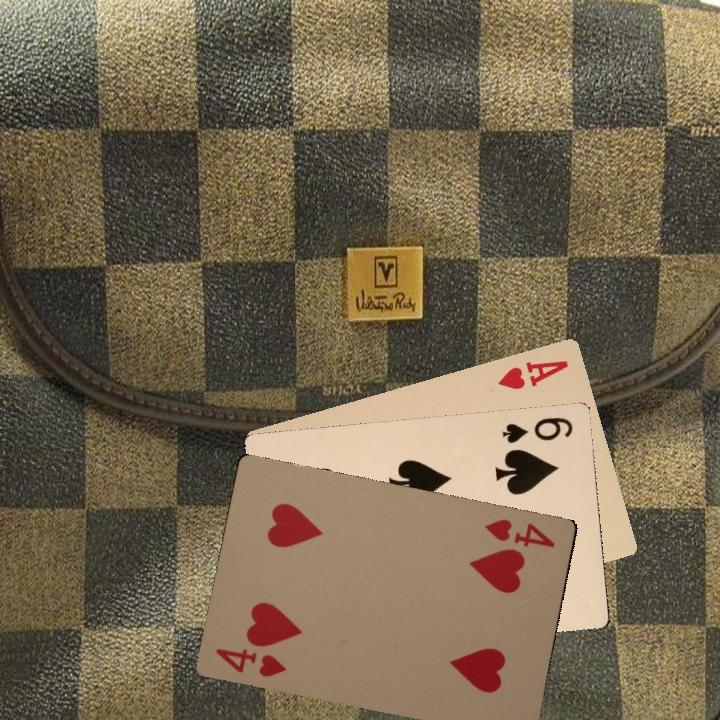4h: (211, 644, 289, 680), (481, 515, 558, 550)
6s: (498, 413, 575, 446)
Ah: (494, 356, 571, 392)
